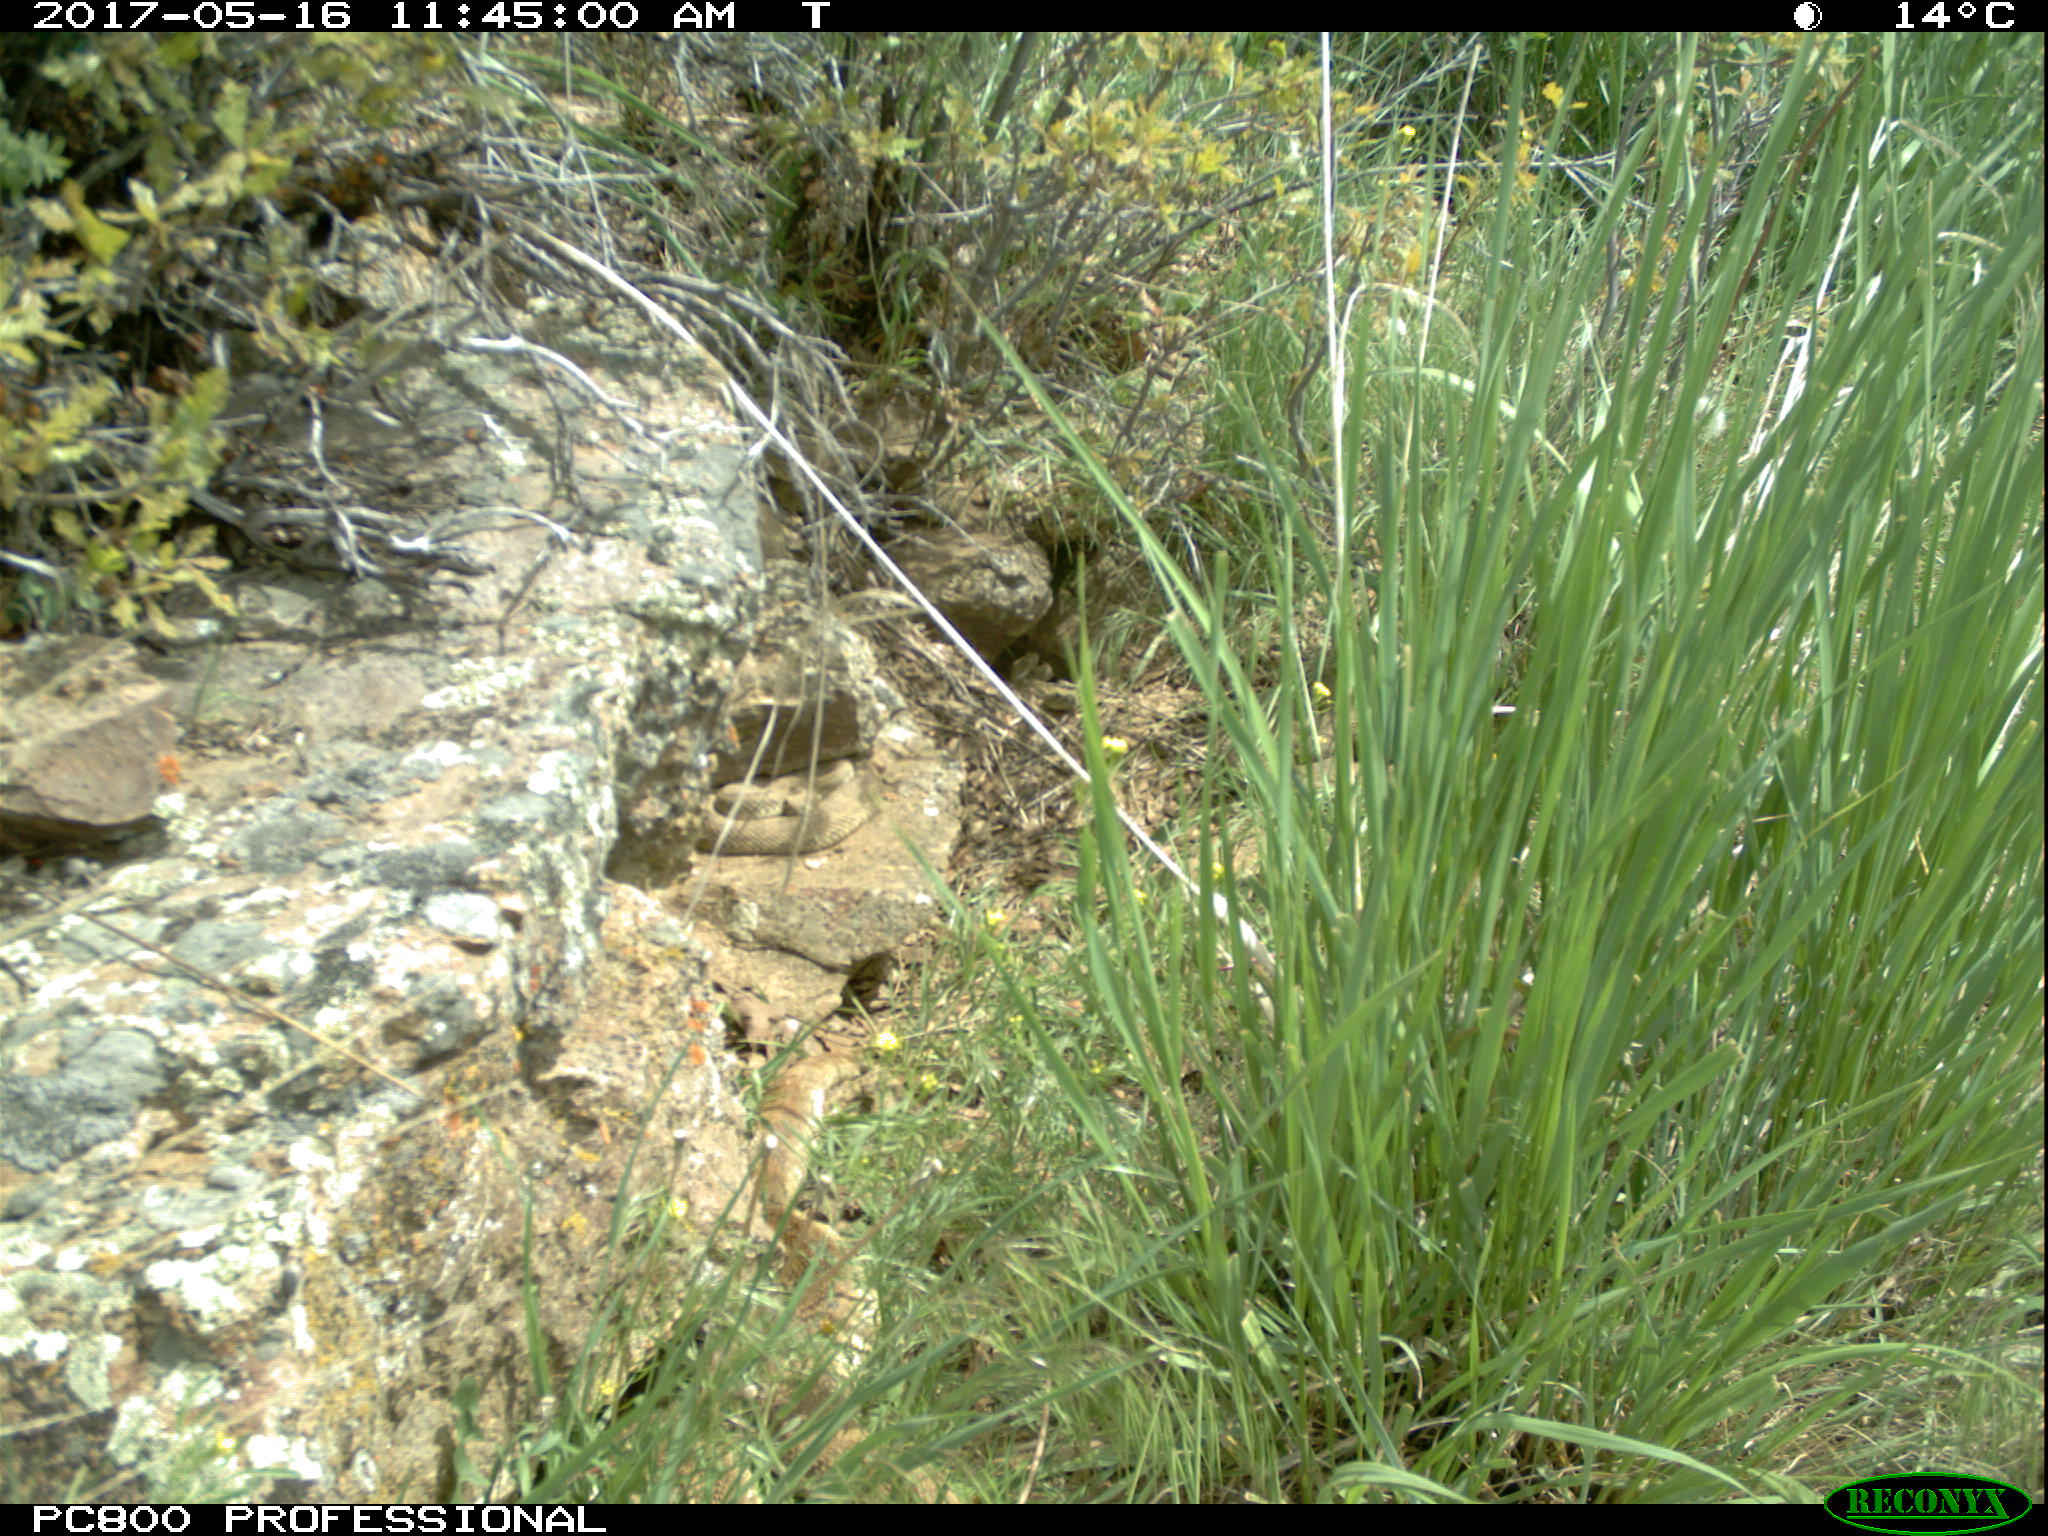snake: (756, 1050, 880, 1397), (700, 760, 880, 857)
